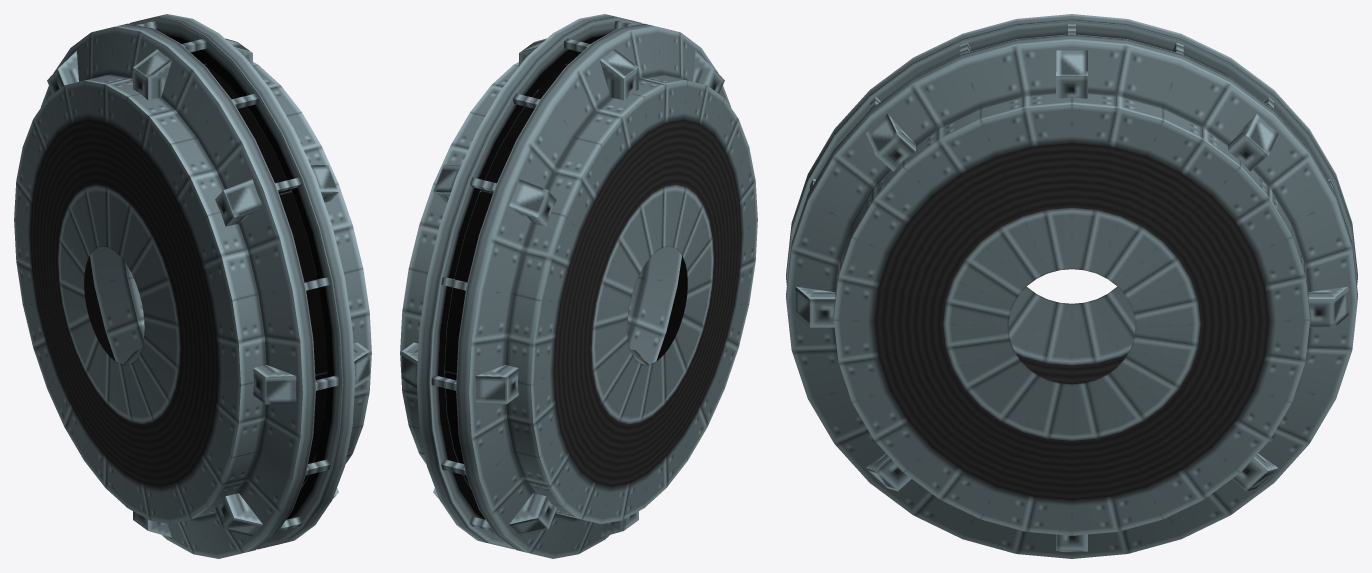
The model's file is fensu2_wheel.obj.
3 renders of one model, left to right at view 1: azimuth 30°, elevation 25°; view 2: azimuth 150°, elevation 25°; view 3: azimuth 270°, elevation 25°, orthographic. The views are drawn at different scales.
Visible parts, largest first — view 1: Wheel; view 2: Wheel; view 3: Wheel.
Boxes of the visible parts, x1,y1,x2,y2 form: Wheel: (14,14,371,558); Wheel: (400,14,757,558); Wheel: (786,14,1357,558).
Size of the model in its own units: 3 by 9 by 9.
